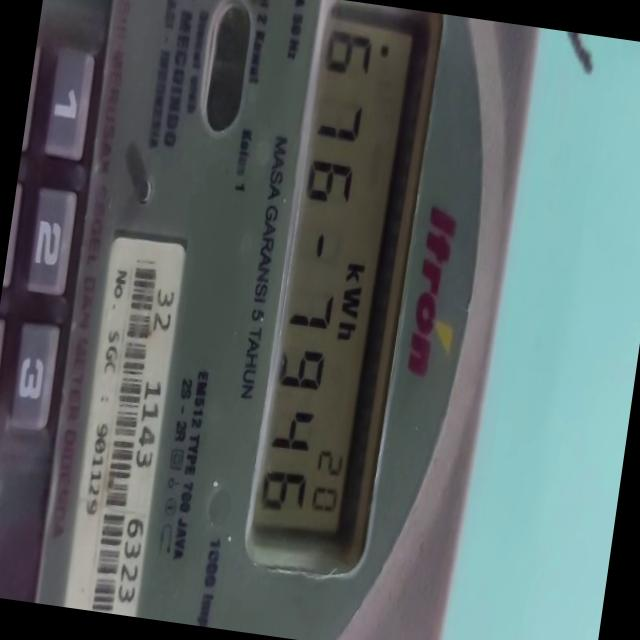LCD: (236, 5, 440, 575)
